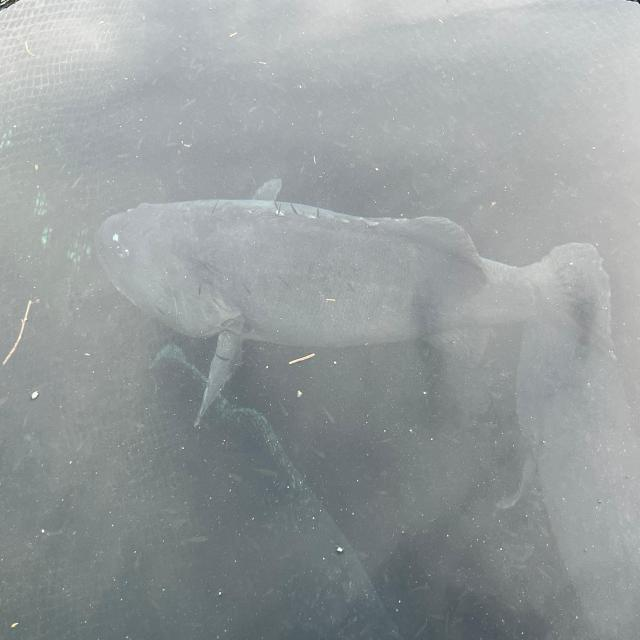ikan: (94, 177, 613, 437)
